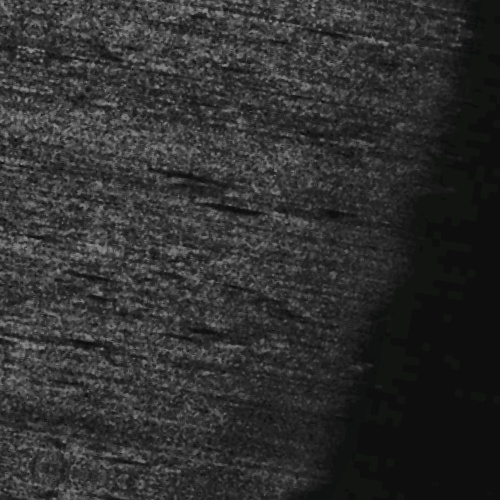object: (217, 208, 300, 215), (232, 180, 295, 187), (16, 375, 57, 380), (0, 191, 13, 200)
shadow: (160, 180, 263, 187), (194, 208, 258, 215), (0, 375, 37, 380)
